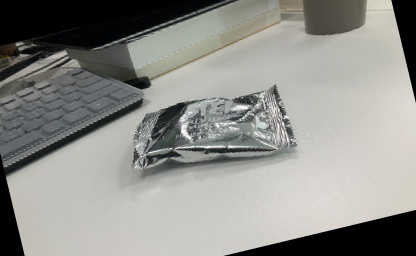br: (119, 76, 301, 189)
